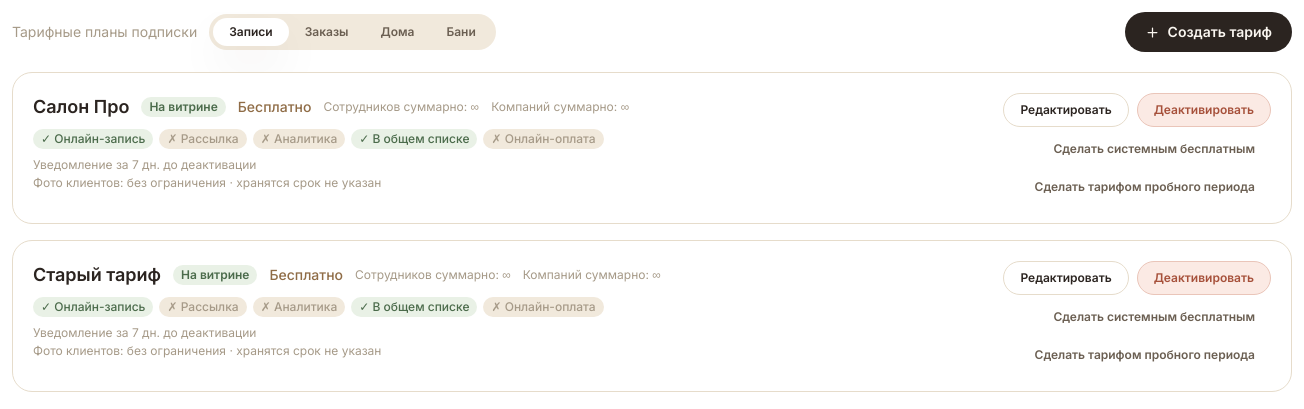
Scenario: PlansTab — line (cycle 24) › switches to the «Заказы» line and shows its limits and system-free mark, without salon-only badges or the trial button
Click the tab "Заказы": (327, 32) [289,18,364,46]
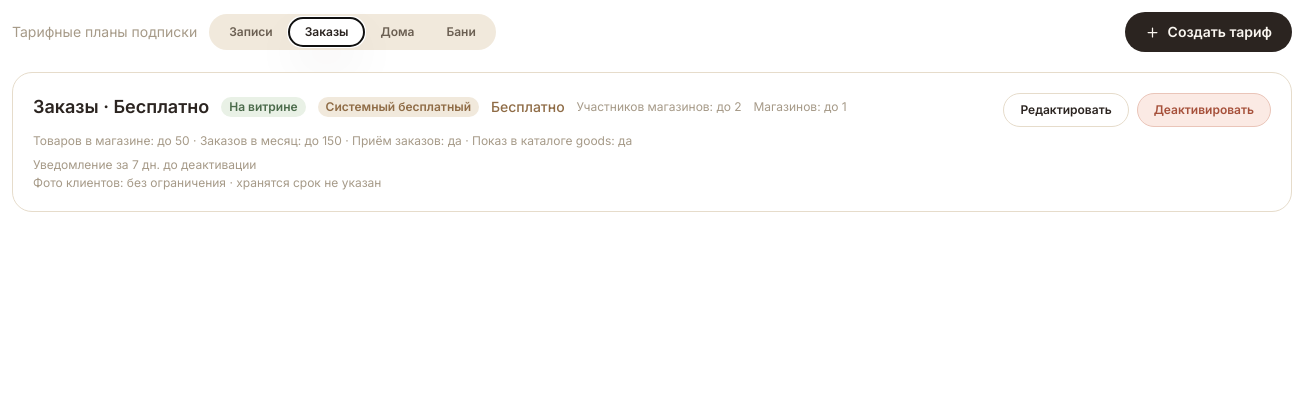
Now the heading "Заказы · Бесплатно" is shown, box [33,93,209,121]
Now the heading "Салон Про" is gone
Now the text with test id "orders-plan-limits" shows "Товаров в магазине: до 50 · Заказов в месяц: до 150 · Приём заказов: да", box [33,133,632,149]
